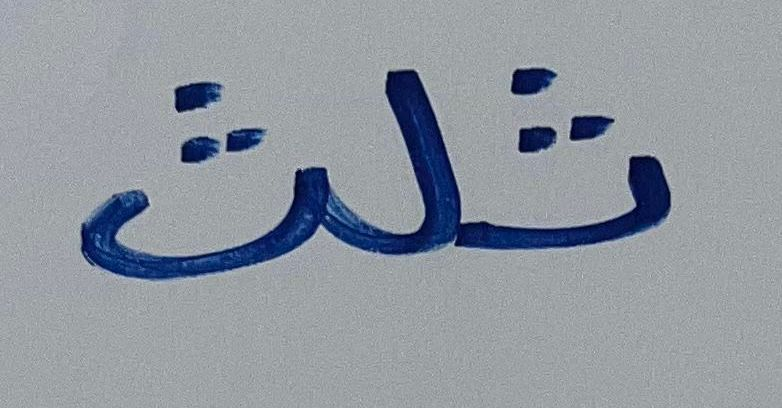lam: (343, 49, 480, 275)
teh: (487, 45, 691, 279)
theh: (63, 52, 339, 291)
